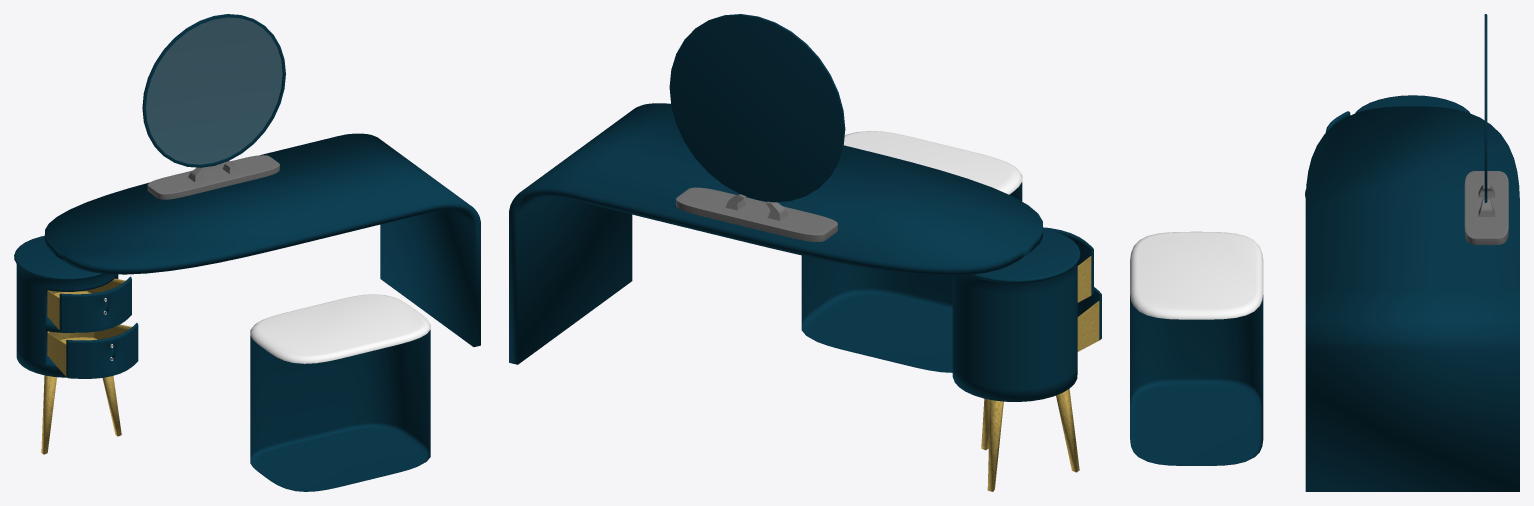
Rendered from FurnitureModel.glb.
3 renders of one model, left to right at view 1: azimuth 30°, elevation 25°; view 2: azimuth 150°, elevation 25°; view 3: azimuth 270°, elevation 25°, orthographic. The views are drawn at different scales.
Parts seen in each view (by area): view 1: table top, sitting coushion, Mirror, drawer table, lower drawer, lower drawer.001; view 2: table top, Mirror, drawer table, sitting coushion, lower drawer, lower drawer.001; view 3: table top, sitting coushion, Mirror, drawer table.
Part boxes in pixels (bbox=[...]): table top: bbox=[44, 133, 480, 346]; sitting coushion: bbox=[250, 294, 430, 491]; Mirror: bbox=[142, 14, 285, 199]; drawer table: bbox=[14, 236, 121, 454]; lower drawer: bbox=[47, 323, 138, 378]; lower drawer.001: bbox=[47, 276, 131, 332]; table top: bbox=[509, 103, 1042, 364]; Mirror: bbox=[669, 14, 845, 241]; drawer table: bbox=[952, 228, 1080, 491]; sitting coushion: bbox=[801, 131, 1022, 372]; lower drawer: bbox=[1077, 287, 1101, 351]; lower drawer.001: bbox=[1043, 227, 1093, 302]; table top: bbox=[1305, 106, 1519, 491]; sitting coushion: bbox=[1130, 231, 1263, 465]; Mirror: bbox=[1464, 14, 1508, 244]; drawer table: bbox=[1355, 95, 1470, 113].
Size of the model in its own units: 2.53 by 2.06 by 1.81.
7 materials, 3 textured.
